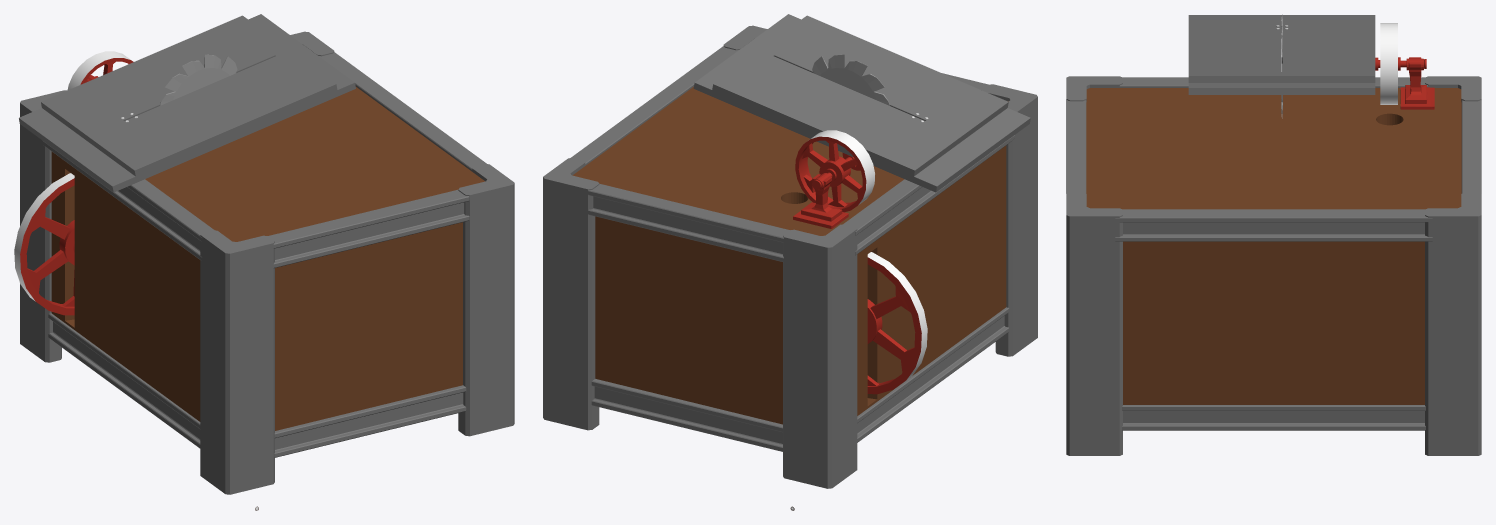
The model's file is Slicer-1.glb.
The picture shows the model from 3 angles, left to right: view 1: azimuth 30°, elevation 25°; view 2: azimuth 150°, elevation 25°; view 3: azimuth 270°, elevation 25°; orthographic projection.
Parts seen in each view (by area): view 1: Cube.001, Cube.002, Cube.007, Cube.013, Cube.012, Cube.005, Cube.003, AnaMil_low.001, Cube.008, Cube.010, Cylinder, AnaMil_low; view 2: Cube.001, Cube.002, Cube.007, Cube.013, Cube.011, Cube.004, Cube.003, AnaMil_low.001, AnaMil_low, Cube.008, Cube.010, Cylinder (+1 smaller); view 3: Cube.001, Cube.013, Cube.002, Cube.007, Cube.010, Cube, Cube.012, Cube.011, AnaMil_low, Govde_alt_low, Cube.008.
Boxes of the visible parts, box(x1,y1,x2,y2) form: Cube.001: box(51, 151, 462, 430); Cube.002: box(20, 31, 514, 494); Cube.007: box(19, 14, 355, 192); Cube.013: box(145, 87, 484, 241); Cube.012: box(268, 189, 469, 268); Cube.005: box(274, 385, 466, 457); Cube.003: box(48, 313, 200, 448); AnaMil_low.001: box(14, 173, 74, 315); Cube.008: box(42, 141, 214, 260); Cube.010: box(319, 52, 486, 171); Cylinder: box(160, 54, 237, 105); AnaMil_low: box(67, 51, 133, 89); Cube.001: box(595, 145, 1006, 424); Cube.002: box(543, 25, 1037, 488); Cube.007: box(693, 14, 1030, 192); Cube.013: box(572, 86, 1008, 235); Cube.011: box(588, 183, 789, 262); Cube.004: box(591, 379, 782, 451); Cube.003: box(857, 307, 1009, 442); AnaMil_low.001: box(867, 252, 927, 394); AnaMil_low: box(795, 130, 874, 212); Cube.008: box(843, 135, 1014, 255); Cube.010: box(571, 46, 738, 165); Cylinder: box(812, 54, 889, 105); Cube.001: box(1123, 123, 1424, 404); Cube.013: box(1086, 88, 1461, 209); Cube.002: box(1066, 76, 1481, 455); Cube.007: box(1188, 15, 1375, 94); Cube.010: box(1115, 209, 1432, 241); Cube: box(1122, 405, 1425, 430); Cube.012: box(1066, 100, 1086, 193); Cube.011: box(1461, 100, 1481, 193); AnaMil_low: box(1375, 23, 1426, 104); Govde_alt_low: box(1400, 57, 1434, 109); Cube.008: box(1119, 77, 1428, 87).
Bounding box in the file's own units: 16.29 × 21.33 × 17.23.
